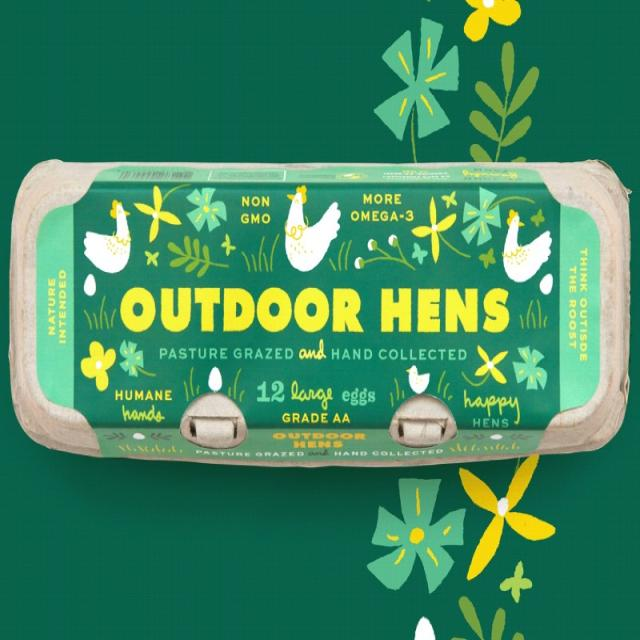egg carton: (10, 159, 630, 467)
